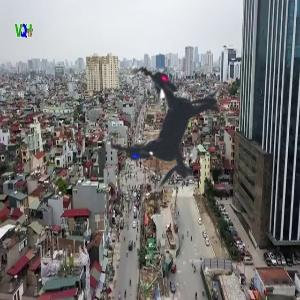drone: (56, 19, 283, 246)
